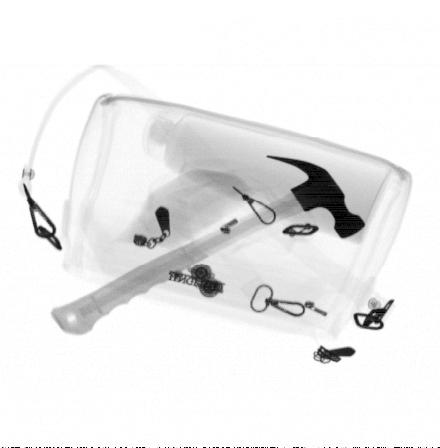Hammer: (50, 156, 367, 336)
